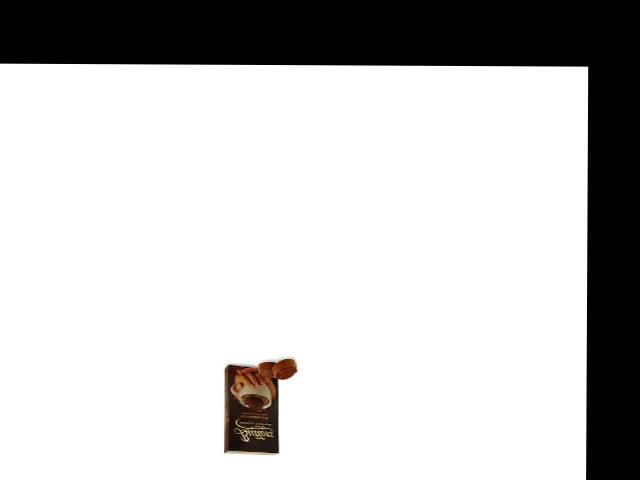chocolate: (220, 362, 286, 457)
